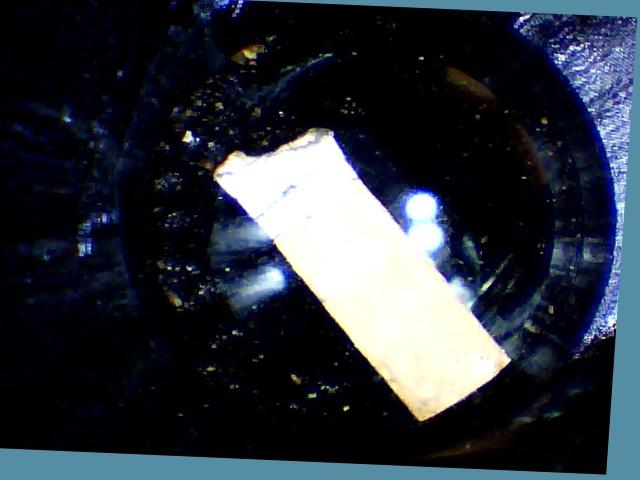megot: (183, 117, 556, 436)
